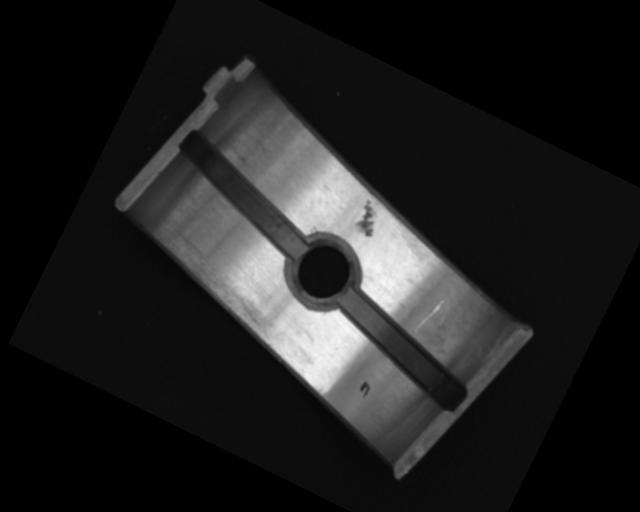blot: (355, 379, 373, 400)
bruise: (350, 196, 386, 239)
gap: (158, 128, 330, 261), (319, 286, 484, 412)
hole: (277, 225, 368, 319)
nick: (412, 293, 446, 340)
scratch: (141, 225, 296, 346)
